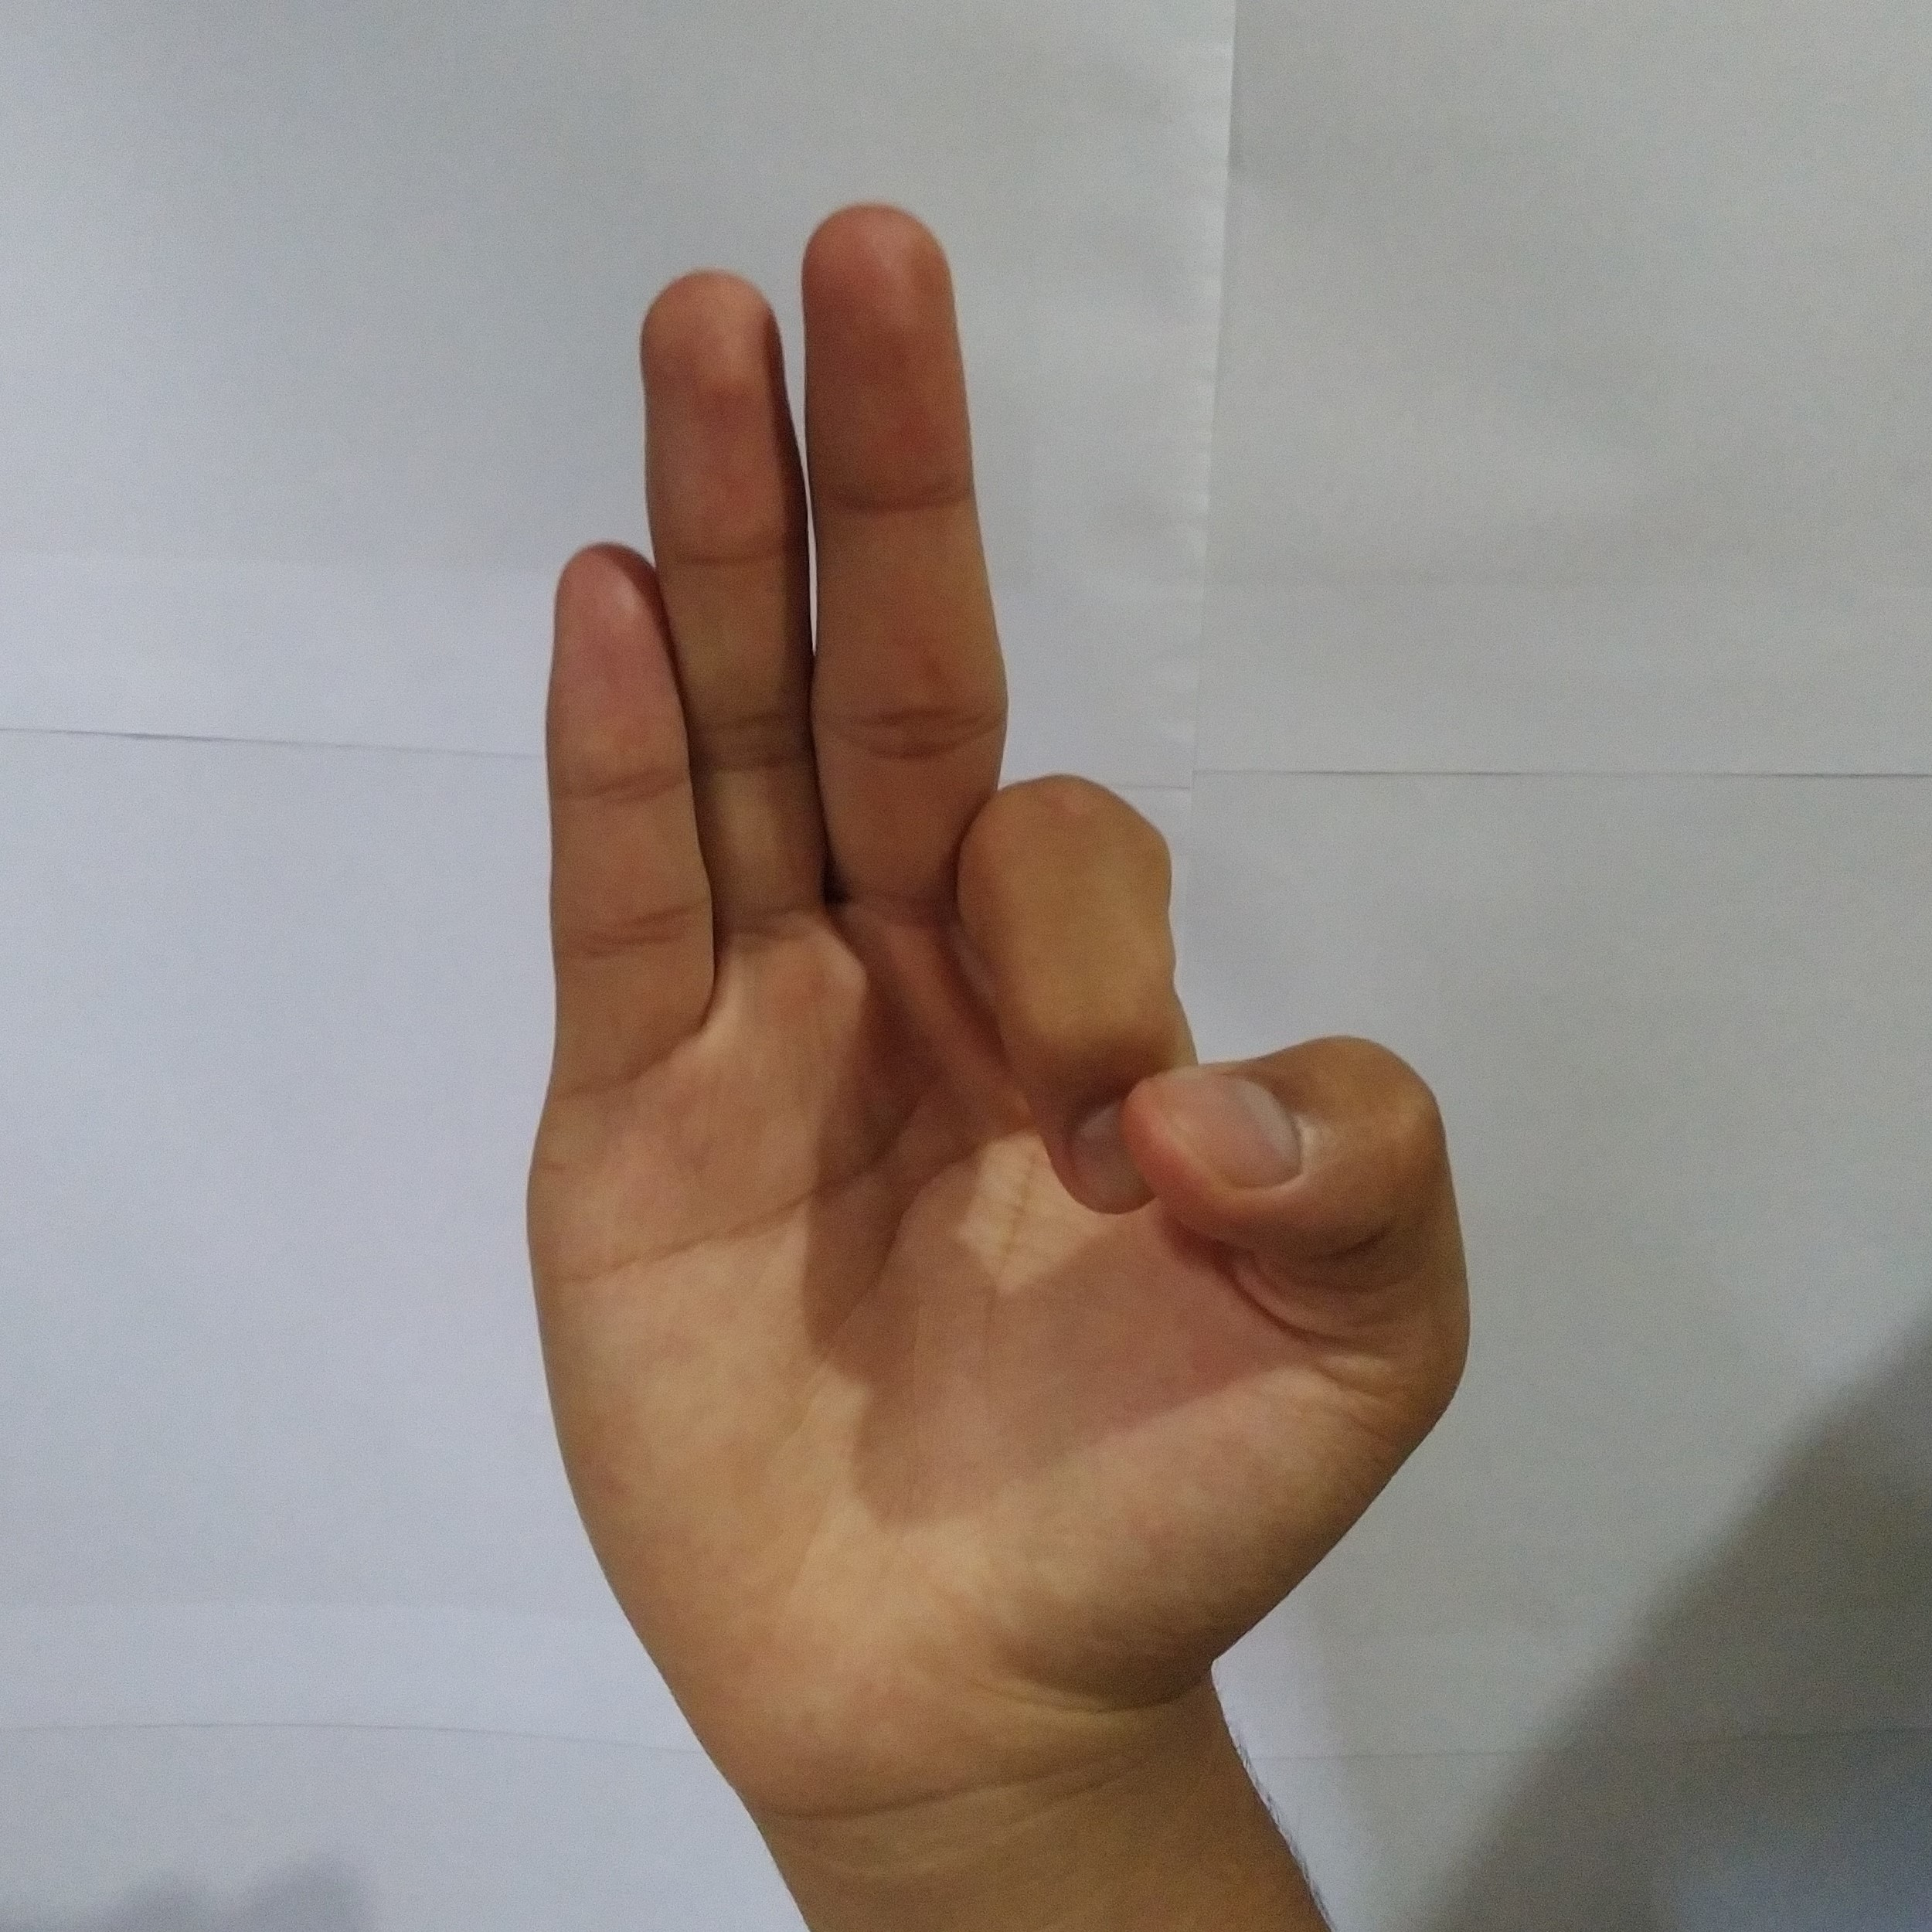F: (504, 182, 1488, 1704)
